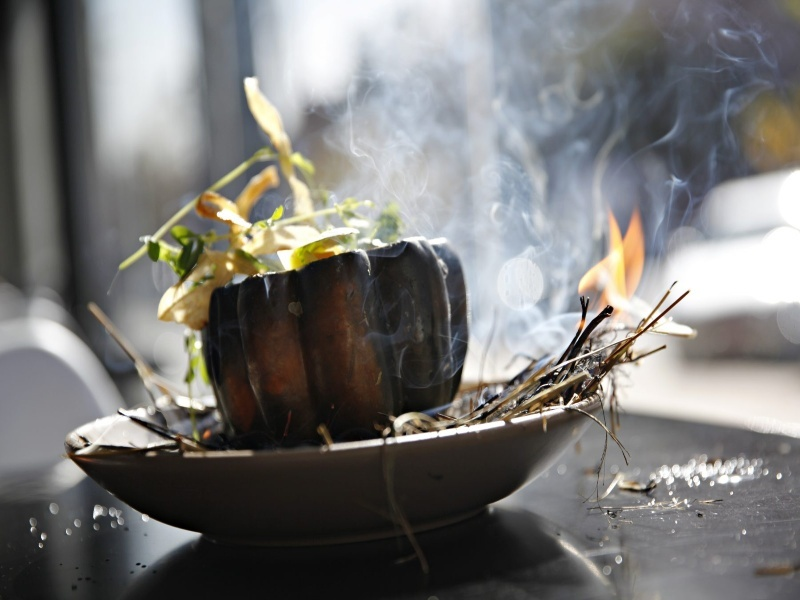smoke: (369, 1, 661, 323)
